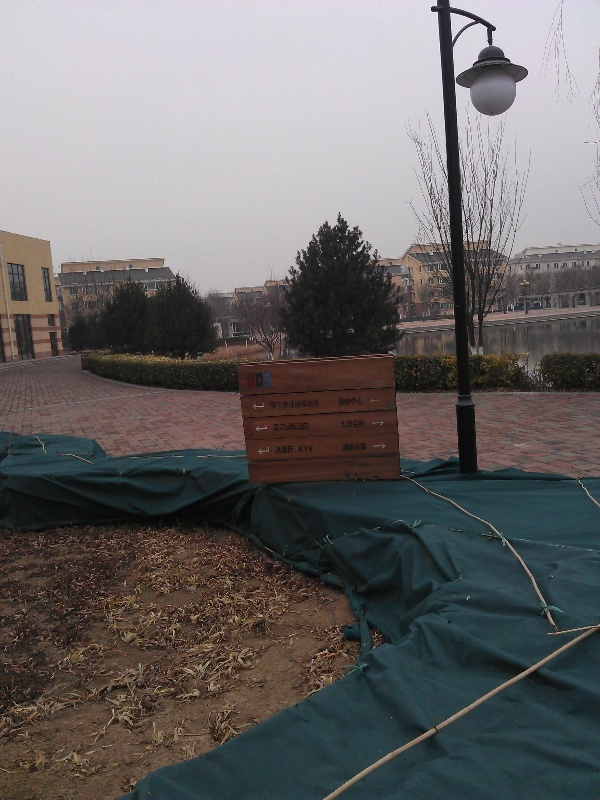text: (305, 399, 321, 410), (273, 399, 288, 410), (289, 399, 304, 410), (289, 422, 304, 432), (289, 445, 304, 455), (274, 422, 288, 432), (338, 397, 352, 407), (353, 442, 368, 451), (275, 445, 288, 455), (353, 419, 366, 429), (340, 419, 352, 429), (353, 397, 363, 407), (305, 445, 314, 455), (342, 442, 352, 451), (305, 422, 310, 432), (271, 399, 272, 410)
